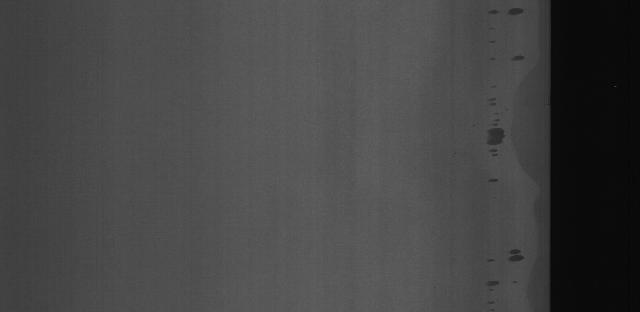oil_spot: (483, 90, 508, 185), (482, 252, 503, 307), (484, 6, 502, 68), (502, 238, 526, 269), (509, 54, 531, 68), (506, 7, 526, 18)
